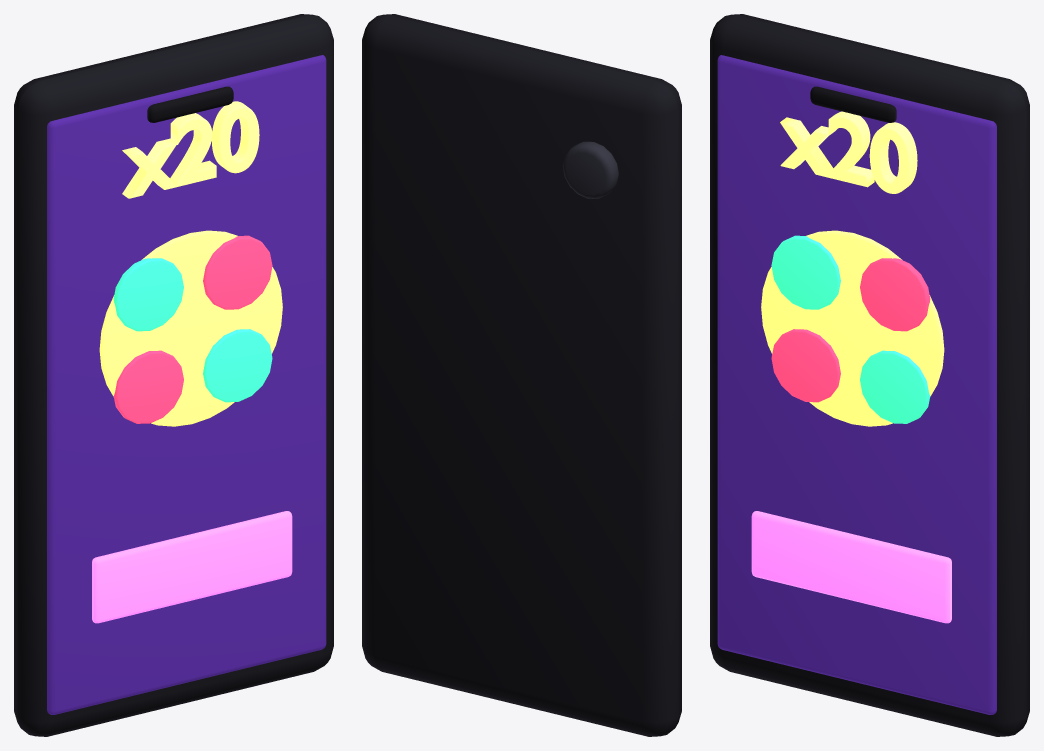
File: casino_bet_phone.fbx
3 renders of one model, left to right at view 1: azimuth 30°, elevation 25°; view 2: azimuth 150°, elevation 25°; view 3: azimuth 330°, elevation 25°, orthographic.
Parts seen in each view (by area): view 1: casino_bet_phone; view 2: casino_bet_phone; view 3: casino_bet_phone.
Boxes of the visible parts, box(x1,y1,x2,y2) form: casino_bet_phone: box(14, 14, 333, 736); casino_bet_phone: box(362, 14, 681, 736); casino_bet_phone: box(710, 14, 1029, 736).
Bounding box in the file's own units: 0.11 × 0.22 × 0.0271.
